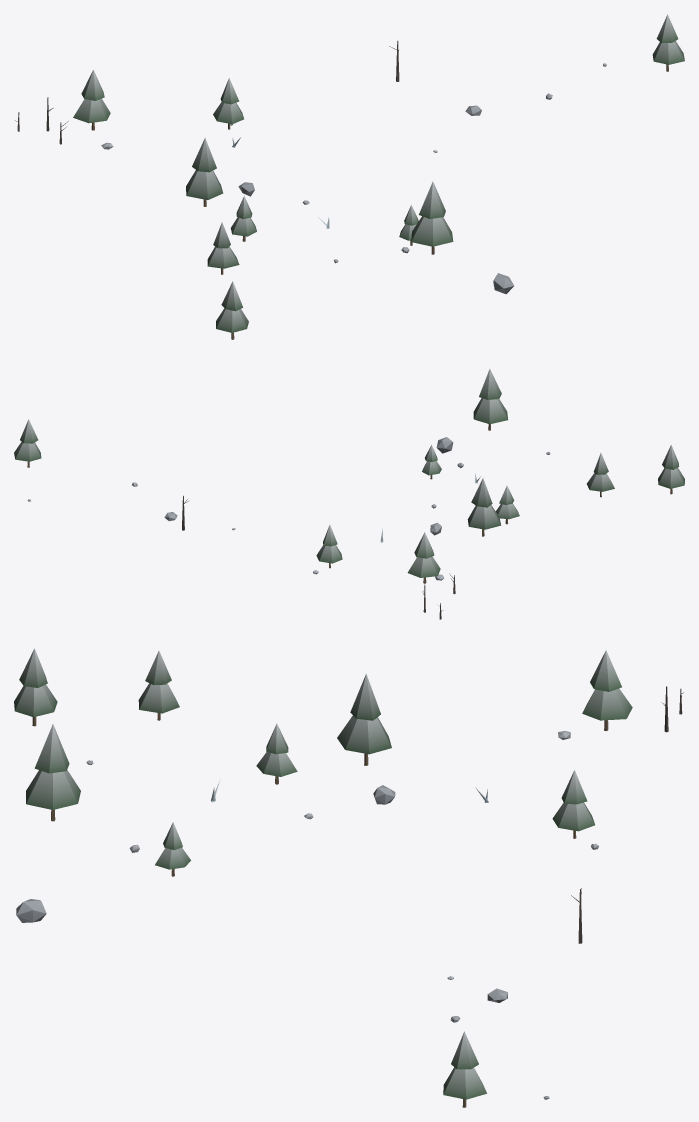
File: frost_land_scatter_c15_12_lod1.glb
3 renders of one model, top to bottom at view 1: azimuth 30°, elevation 25°; view 2: azimuth 150°, elevation 25°; view 3: azimuth 270°, elevation 25°, orthographic. The views are drawn at different scales.
Visible parts, largest first — view 1: frost_land_scatter_c15_12_lod1; view 2: frost_land_scatter_c15_12_lod1; view 3: frost_land_scatter_c15_12_lod1.
Boxes of the visible parts, <box> form: frost_land_scatter_c15_12_lod1: <box>15,14,684,339</box>; frost_land_scatter_c15_12_lod1: <box>14,368,684,619</box>; frost_land_scatter_c15_12_lod1: <box>14,648,683,1107</box>.
Bounding box in the file's own units: 144 × 26.15 × 99.79.
